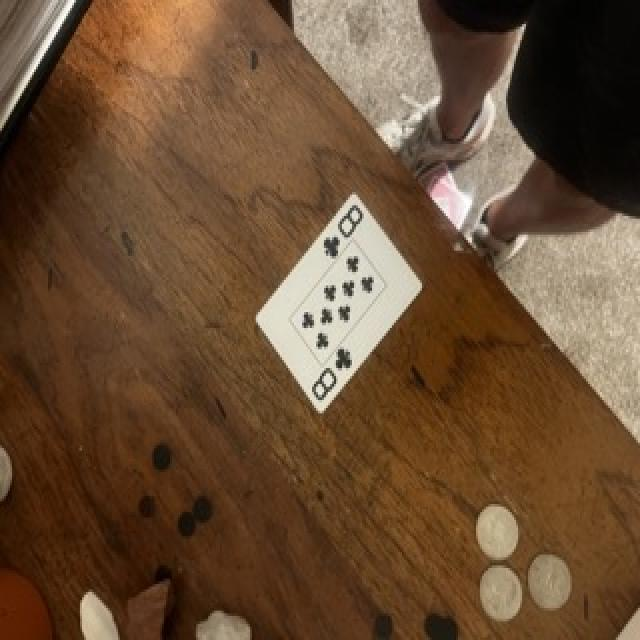8 of clubs: (256, 193, 421, 413)
